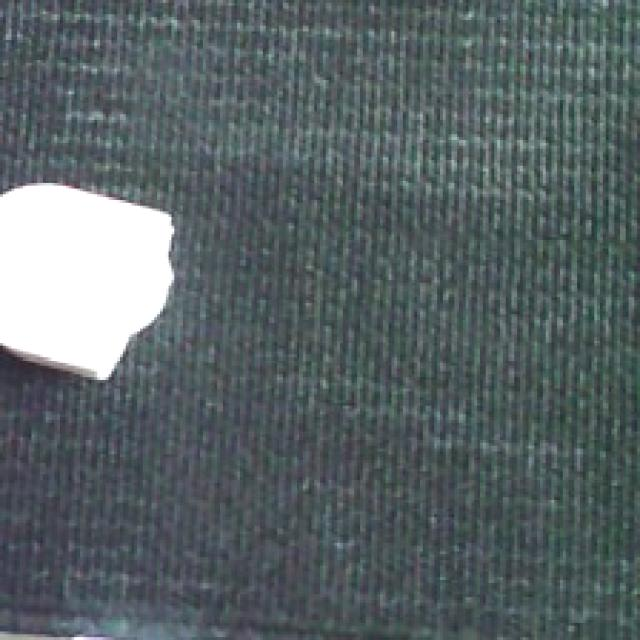defected: (0, 174, 183, 383)
